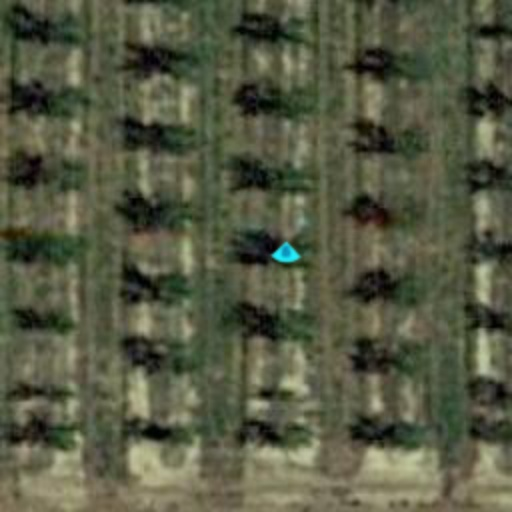quarter_circle: (270, 238, 302, 270)
